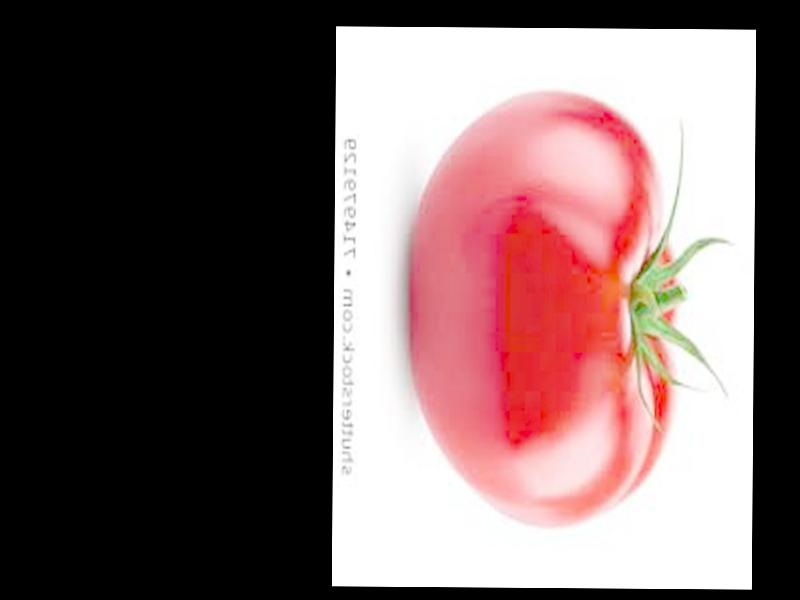Tomato: (409, 90, 675, 529)
